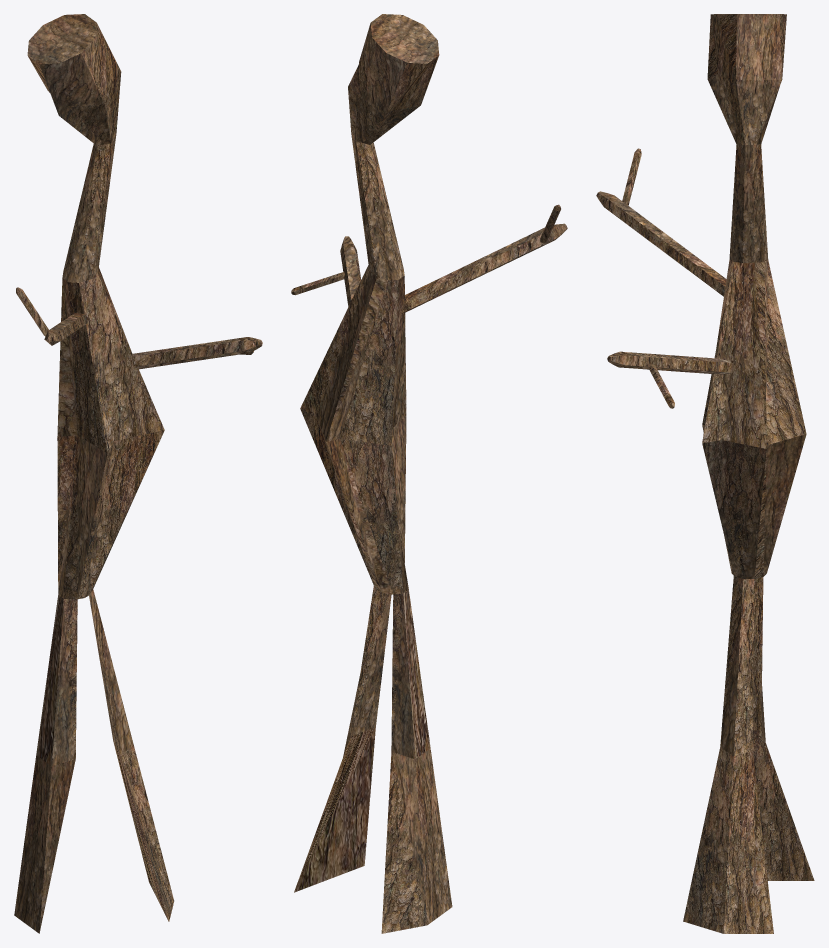
Rendered from humanoidtree_5.glb.
3 views of the same model, side by side, from view 1: azimuth 30°, elevation 25°; view 2: azimuth 150°, elevation 25°; view 3: azimuth 270°, elevation 25° (orthographic).
Parts seen in each view (by area): view 1: tree5; view 2: tree5; view 3: tree5.
Part boxes in pixels (x1,y1,x2,y2): tree5: (14,14,262,933); tree5: (291,14,567,933); tree5: (596,14,814,933).
Size of what is drawn, in the model's own units: 0.8967 by 3 by 0.6711.
1 material, 1 textured.
